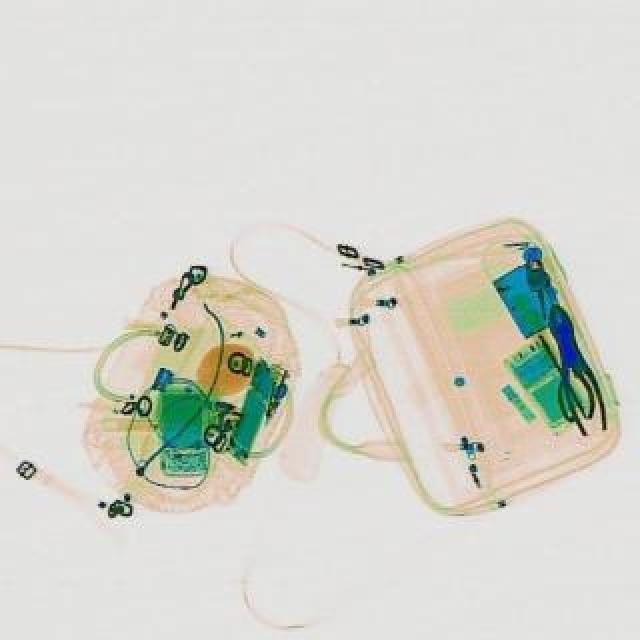wrench: (534, 300, 612, 436), (536, 334, 602, 422)
